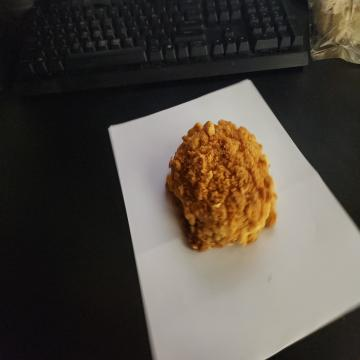soboru_bread: (165, 118, 278, 257)
